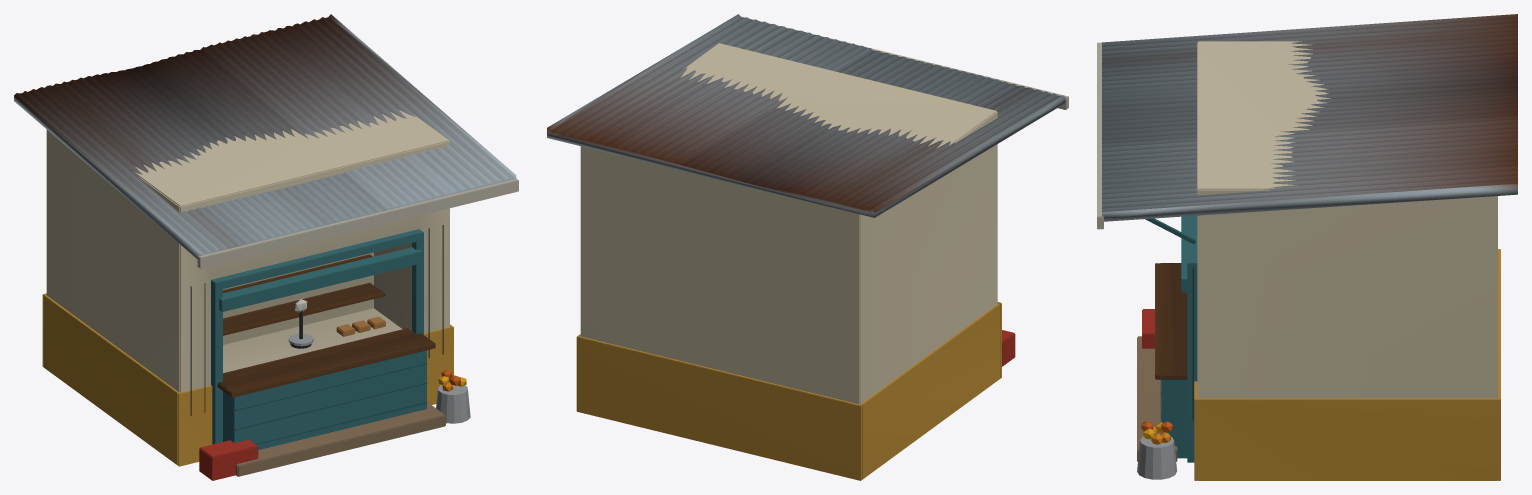
File: general_store.glb
The picture shows the model from 3 angles, left to right: view 1: azimuth 30°, elevation 25°; view 2: azimuth 150°, elevation 25°; view 3: azimuth 270°, elevation 25°; orthographic projection. The views are drawn at different scales.
Parts seen in each view (by area): view 1: hb_main, hb_tin, hb_props; view 2: hb_main, hb_tin; view 3: hb_main, hb_tin, hb_props.
Boxes of the visible parts, x1,y1,x2,y2 form: hb_main: (42,110,518,480); hb_tin: (14,14,516,259); hb_props: (217,254,435,397); hb_main: (576,16,1068,480); hb_tin: (547,14,1065,217); hb_main: (1097,41,1500,480); hb_tin: (1102,14,1517,221); hb_props: (1155,263,1187,379).
Size of the model in its own units: 4.12 by 3.4 by 4.2.
